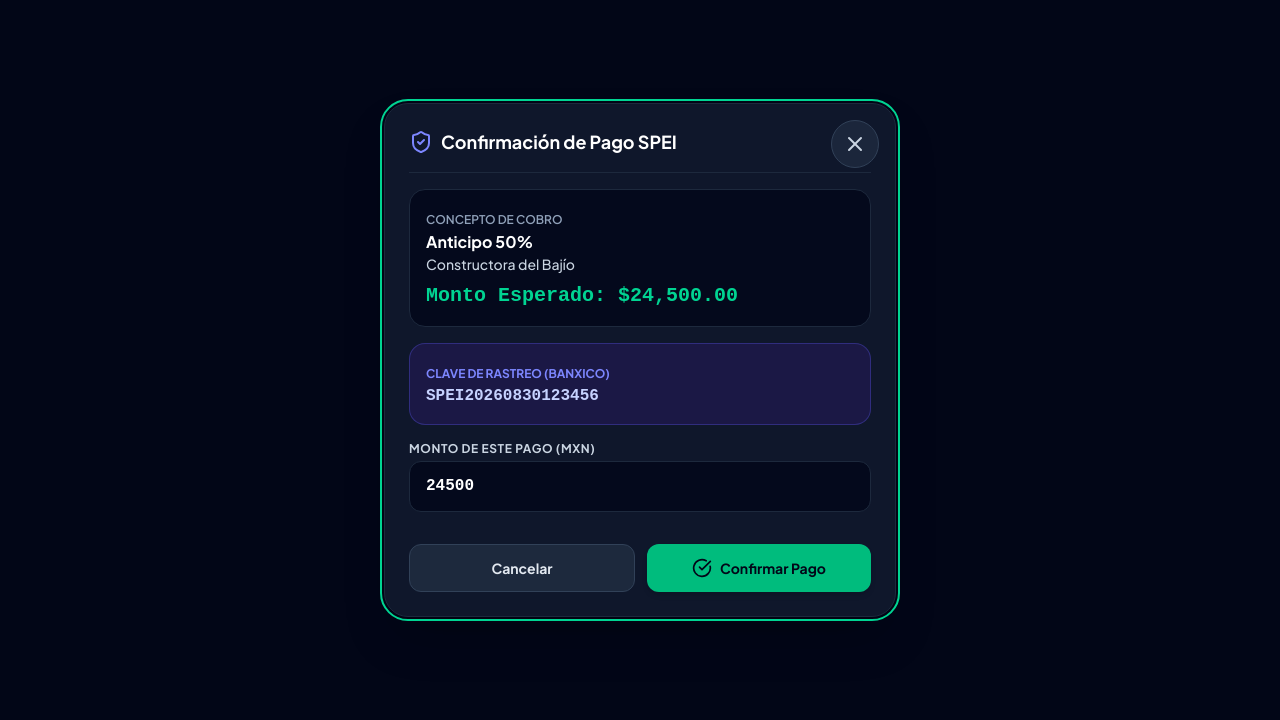
confirming a payment › an unreadable amount is a question, not a default (#284) › refuses to confirm on a zero field instead of substituting the full cobro
Replace the text in the field labelled "Monto de este pago (MXN)" with "0": (640, 487) [409,461,871,512]
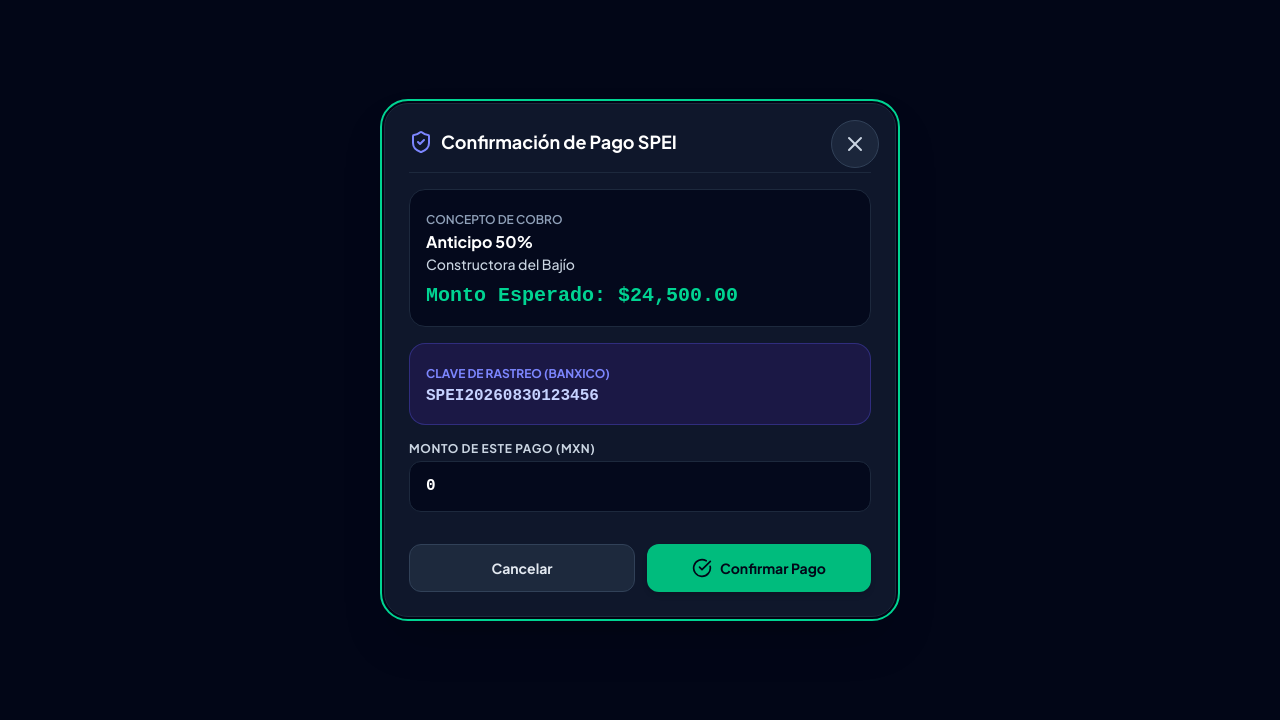
Click the button "Confirmar Pago": (759, 568) [647,544,871,592]
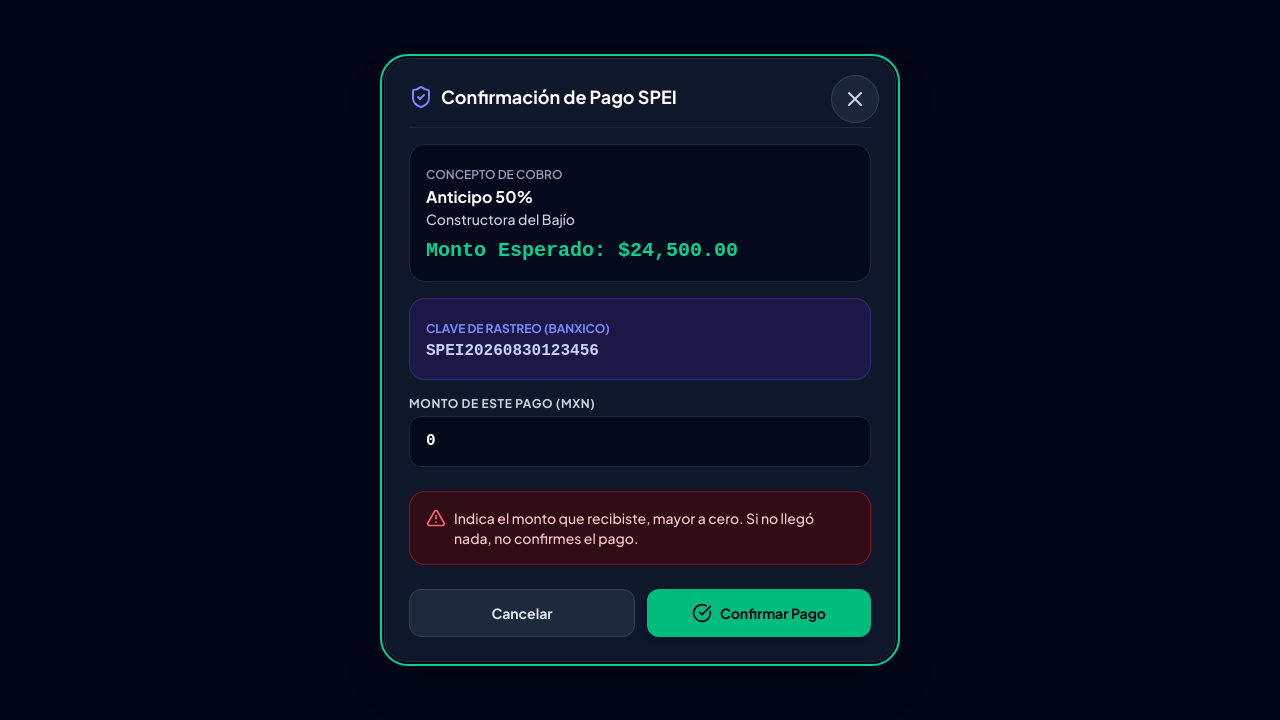
Expected: the message shows "monto que recibiste", [454,509,814,547]
